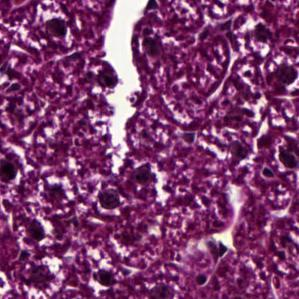inflammation: (33, 171, 77, 214), (196, 229, 241, 264), (245, 14, 282, 53), (84, 254, 121, 292), (94, 187, 129, 216)
